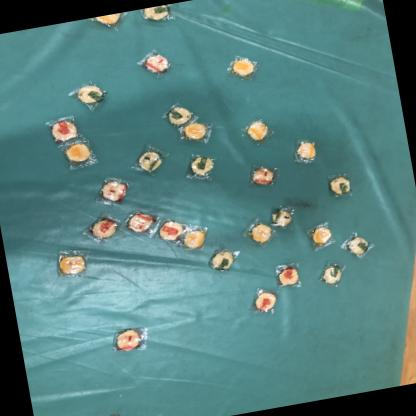green_setoshio: (130, 142, 170, 178), (180, 148, 218, 183), (70, 79, 110, 111), (316, 257, 350, 289), (342, 228, 376, 260), (206, 246, 242, 274), (266, 200, 298, 230), (162, 100, 196, 128), (142, 2, 178, 28), (329, 171, 355, 198)
red_setoshio: (106, 322, 153, 356), (78, 210, 124, 244), (42, 110, 82, 147), (120, 205, 162, 238), (242, 158, 281, 192), (245, 283, 282, 318), (94, 174, 134, 206), (271, 257, 306, 291), (136, 48, 174, 79), (156, 217, 184, 243)
yellow_setoshio: (221, 50, 266, 83), (52, 246, 92, 281), (238, 114, 275, 146), (178, 116, 216, 146), (61, 139, 98, 169), (179, 220, 212, 252), (306, 218, 339, 250), (290, 136, 322, 165), (88, 12, 130, 32), (245, 219, 274, 246)
